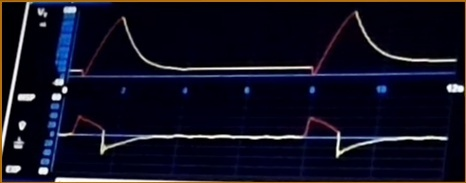Flow: (63, 106, 447, 172)
Leakage Volume: (75, 10, 455, 82)
